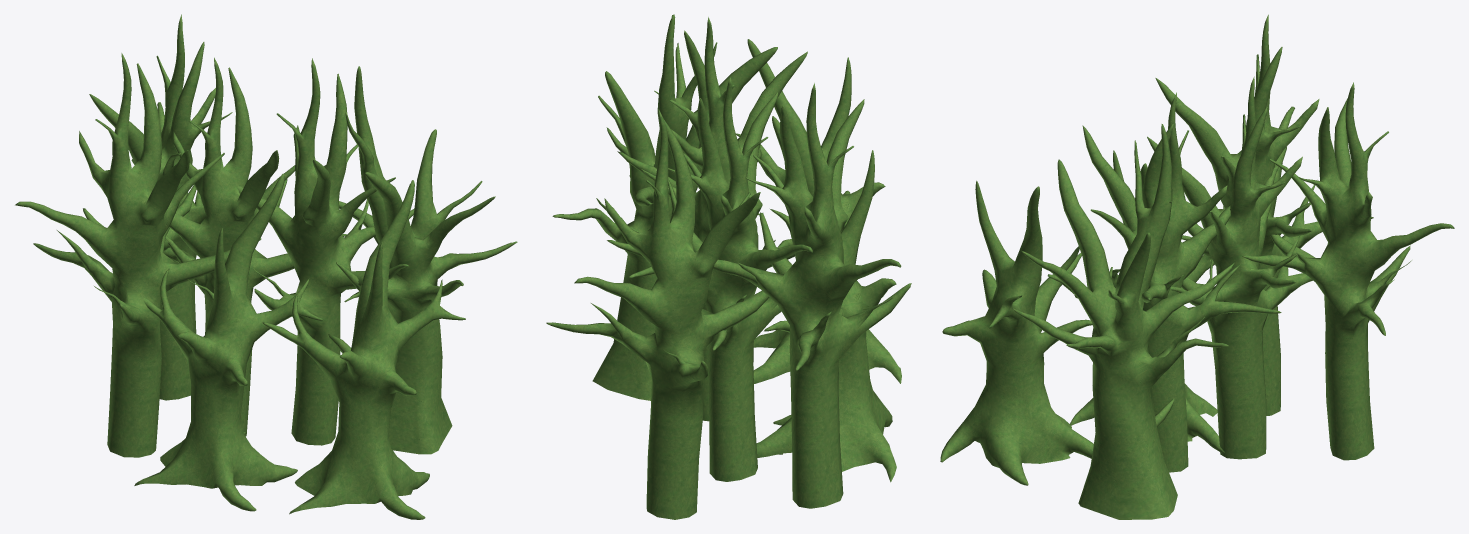
Rendered from SM_ENV_KNFRST_DistanceTree_GroupD.FBX.
3 views of the same model, side by side, from view 1: azimuth 30°, elevation 25°; view 2: azimuth 150°, elevation 25°; view 3: azimuth 270°, elevation 25° (orthographic). The views are drawn at different scales.
Visible parts, largest first — view 1: SM_ENV_KNFRST_DistanceTree_GroupD; view 2: SM_ENV_KNFRST_DistanceTree_GroupD; view 3: SM_ENV_KNFRST_DistanceTree_GroupD.
Part boxes in pixels (x1=…): SM_ENV_KNFRST_DistanceTree_GroupD: x1=15, y1=14, x2=517, y2=519; SM_ENV_KNFRST_DistanceTree_GroupD: x1=546, y1=14, x2=911, y2=519; SM_ENV_KNFRST_DistanceTree_GroupD: x1=940, y1=14, x2=1454, y2=519.
Bounding box in the file's own units: 10207 × 9948 × 11708.
